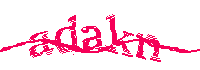a: (81, 26, 104, 55)
d: (55, 15, 79, 55)
k: (107, 13, 133, 59)
l: (30, 31, 54, 59)
n: (136, 33, 161, 63)
